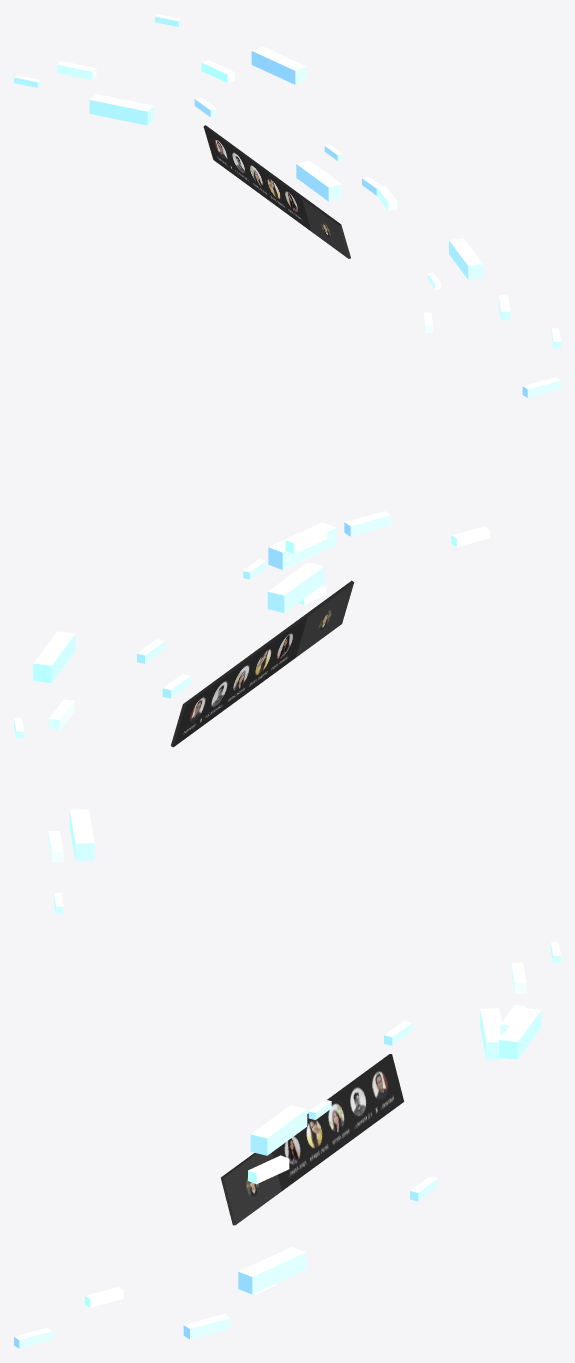
Rendered from xrpeeps_2.glb.
3 renders of one model, top to bottom at view 1: azimuth 30°, elevation 25°; view 2: azimuth 150°, elevation 25°; view 3: azimuth 330°, elevation 25°, orthographic. The views are drawn at different scales.
Visible parts, largest first — view 1: xrpeeps, Cube, Cube.008, Cube.004, Cube.012, Cube.001, Cube.009; view 2: xrpeeps, Cube.004, Cube.008, Cube.012, Cube, Cube.013, Cube.005; view 3: xrpeeps, Cube.012, Cube.004, Cube.008, Cube, Cube.013, Cube.005, Cube.015, Cube.007.
Part boxes in pixels (box(x1,y1,x2,y2)): xrpeeps: box(203, 125, 350, 258); Cube: box(89, 94, 154, 125); Cube.008: box(251, 46, 306, 84); Cube.004: box(296, 160, 341, 201); Cube.012: box(449, 238, 482, 279); Cube.001: box(57, 61, 96, 79); Cube.009: box(201, 60, 234, 82); xrpeeps: box(171, 580, 354, 747); Cube.004: box(267, 562, 324, 612); Cube.008: box(33, 631, 75, 683); Cube.012: box(268, 522, 336, 569); Cube: box(69, 809, 94, 860); Cube.013: box(344, 511, 391, 536); Cube.005: box(285, 525, 326, 553); xrpeeps: box(221, 1054, 404, 1225); Cube.012: box(238, 1246, 306, 1294); Cube.004: box(250, 1105, 307, 1155); Cube.008: box(499, 1007, 541, 1059); Cube: box(480, 1008, 505, 1059); Cube.013: box(183, 1314, 230, 1339); Cube.005: box(248, 1155, 289, 1184); Cube.015: box(14, 1328, 52, 1348); Cube.007: box(85, 1287, 123, 1307).
Bounding box in the file's own units: 6.66 × 3.71 × 36.64.
3 materials, 1 textured.
